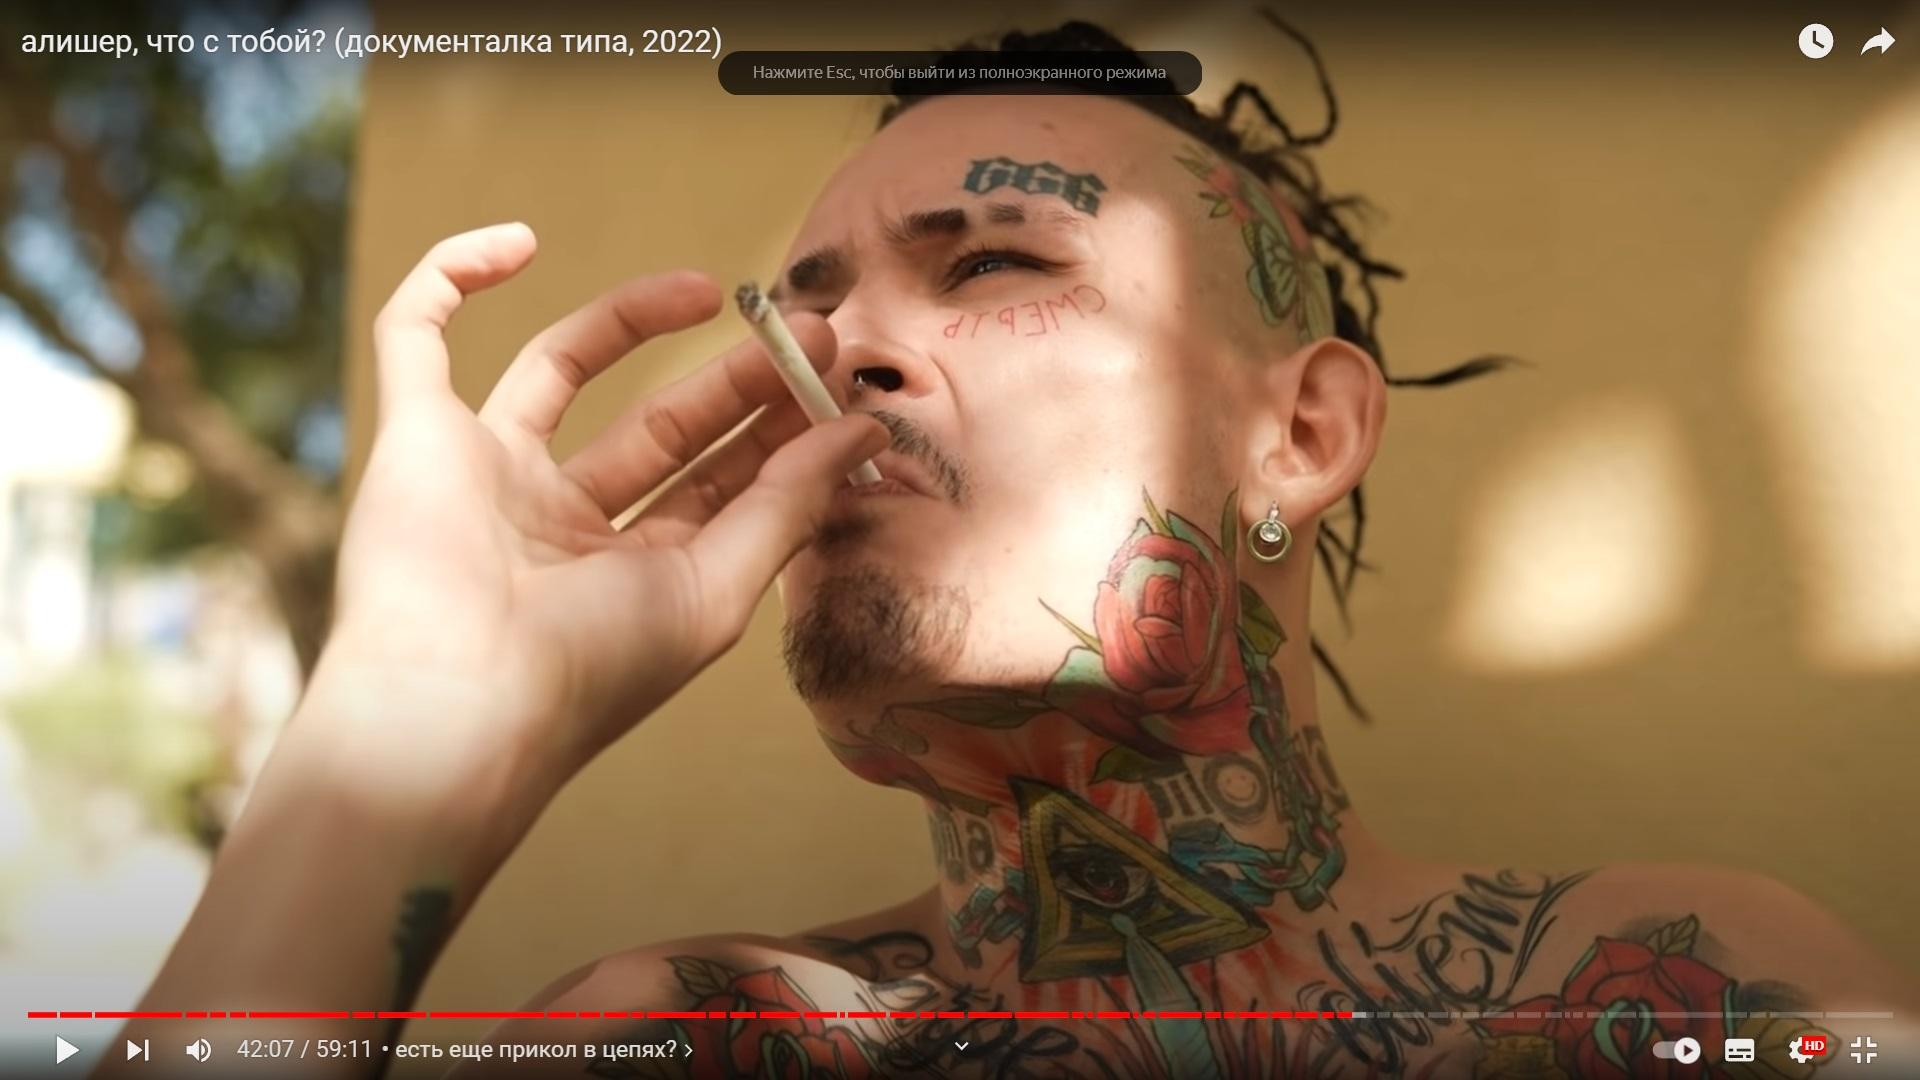cigarette: (735, 280, 882, 488)
